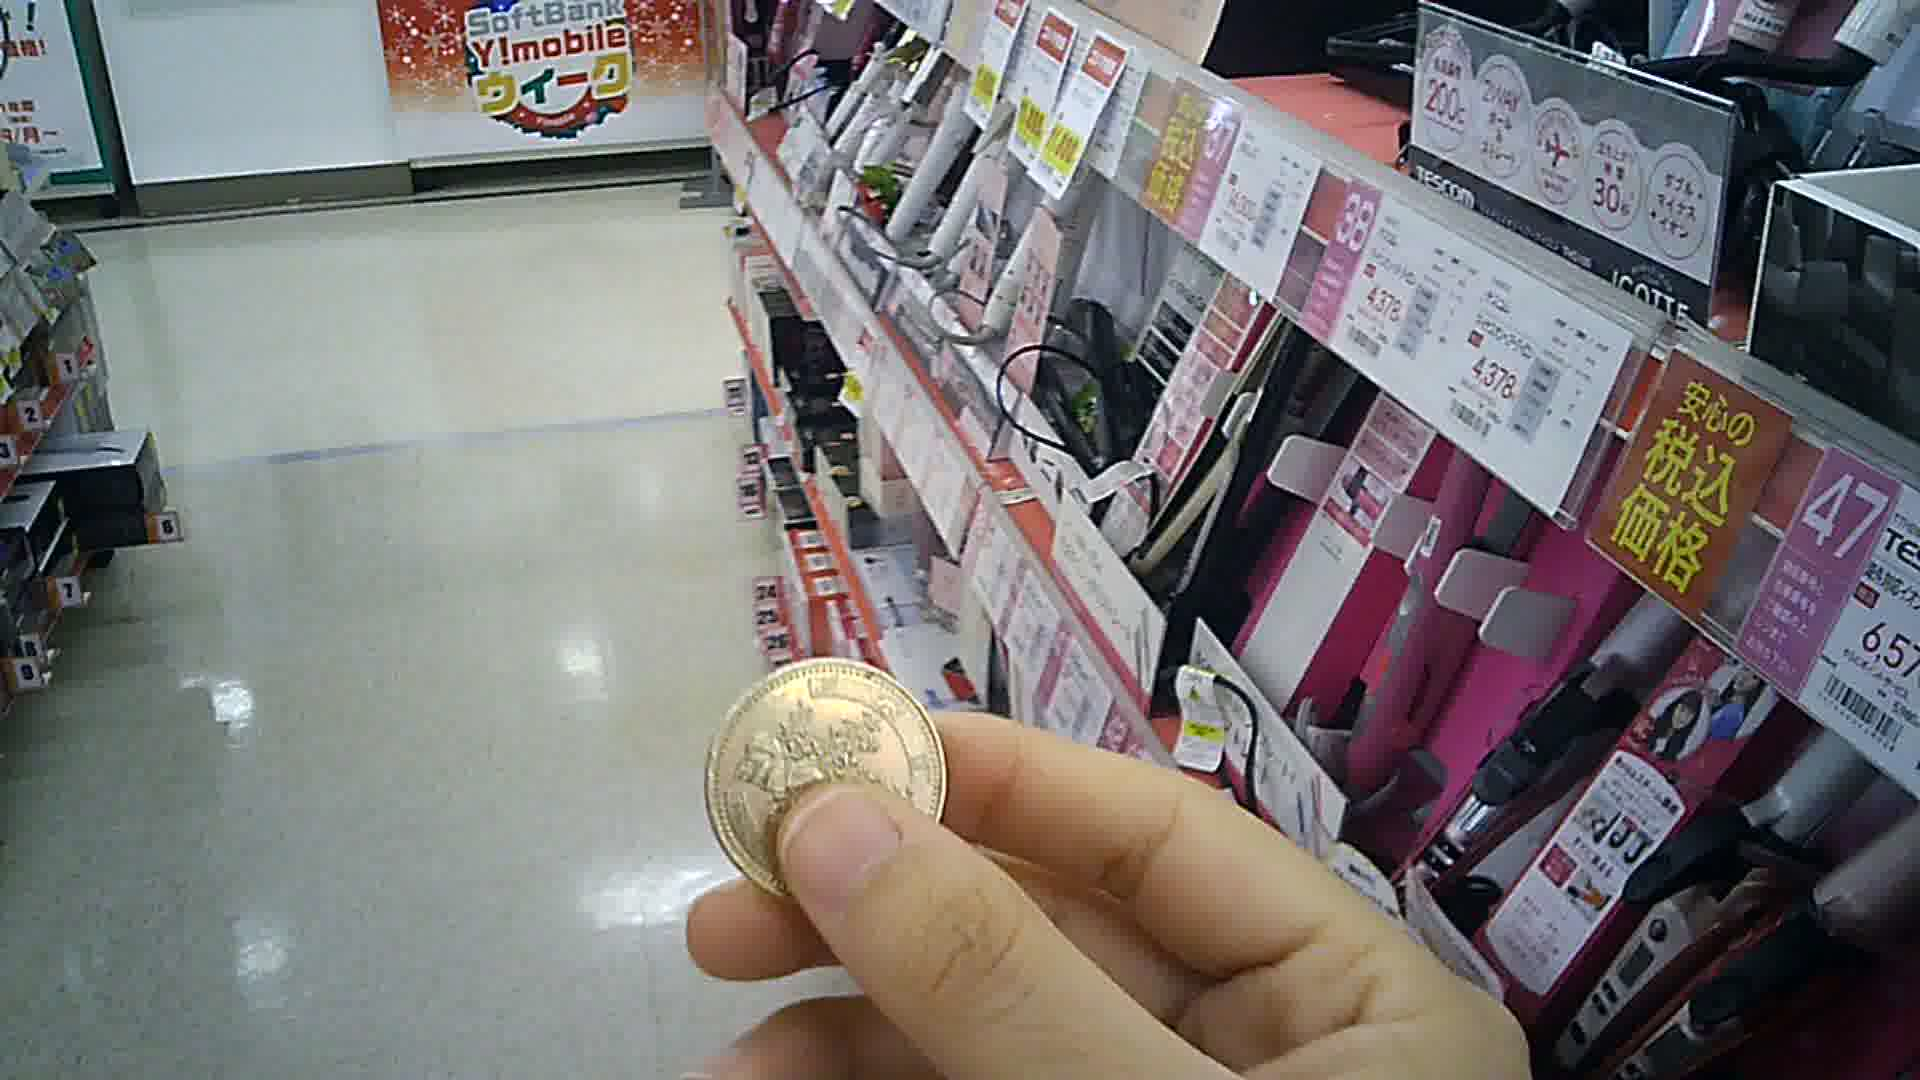500 Yen: (702, 655, 945, 899)
